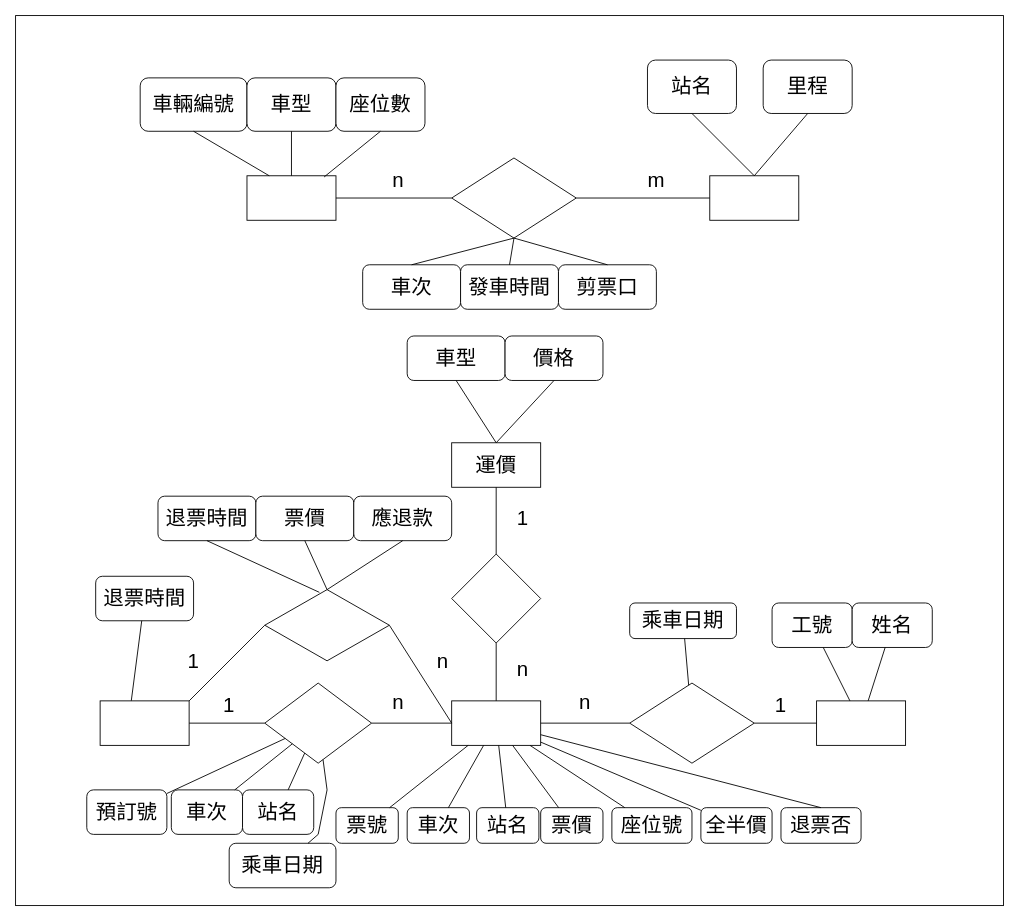
This 1019x921 diagram has some shape labels left out. The centre of each missing label's shape, as x and y in pixels:
"售票" belongs at point 691,722.
"售票員" belongs at point 861,722.
"目標站名" belongs at point 754,197.
"計費" belongs at point 496,598.
"車票" belongs at point 496,722.
"車輛" belongs at point 291,197.
"退票" belongs at point 326,625.
"開往" belongs at point 513,197.
"預購" belongs at point 318,722.
"顧客" belongs at point 144,722.
